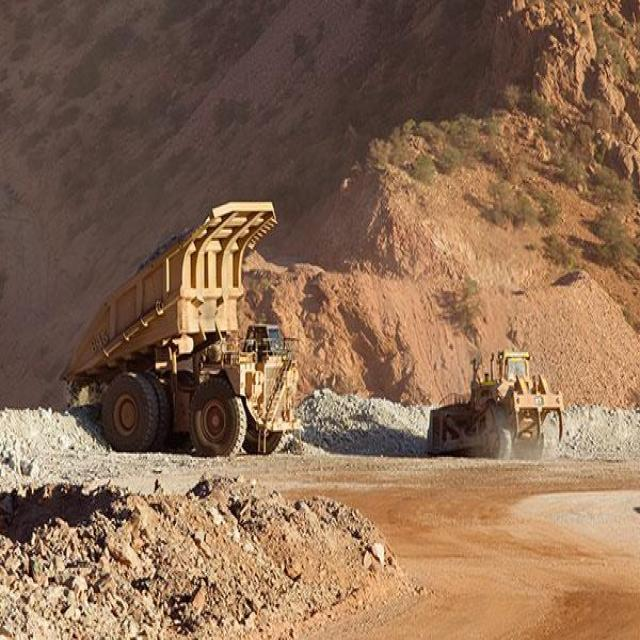buldozerpayloadergrader: (414, 333, 567, 471)
dump_truck: (55, 190, 318, 463)
